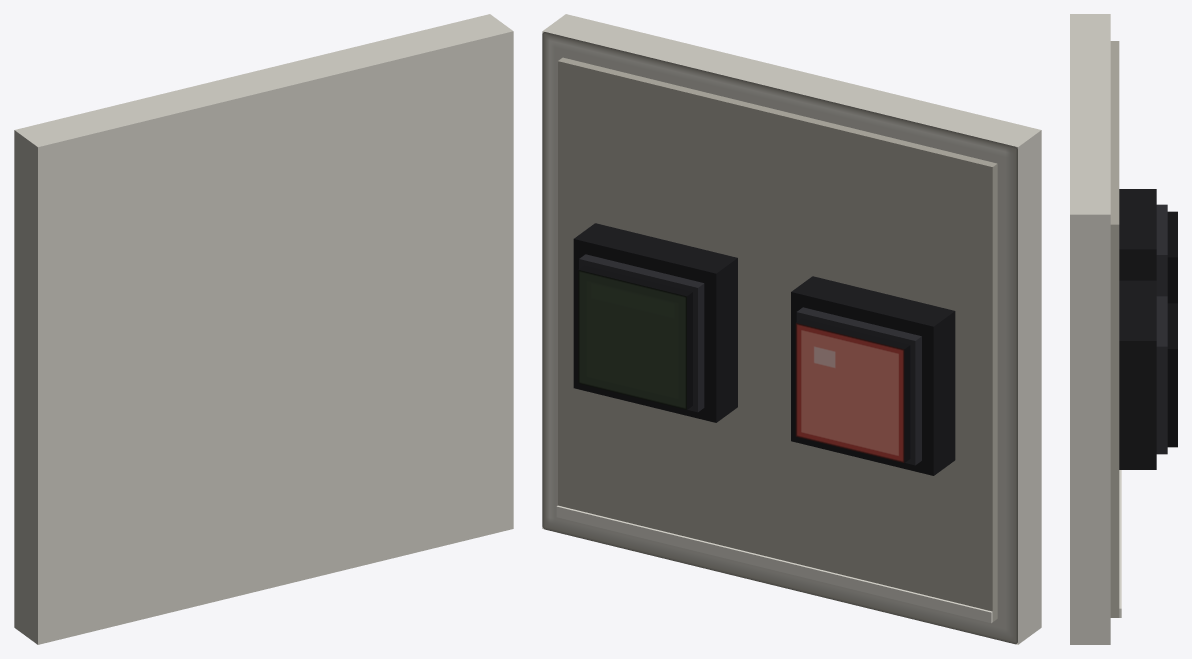
Rendered from indicator2_red.obj.
The picture shows the model from 3 angles, left to right: view 1: azimuth 30°, elevation 25°; view 2: azimuth 150°, elevation 25°; view 3: azimuth 270°, elevation 25°; orthographic projection. The views are drawn at different scales.
Visible parts, largest first — view 1: Panel; view 2: Panel, LampRed, LampGreen; view 3: Panel, LampGreen, LampRed.
Part boxes in pixels (left/top/right/bottom): Panel: left=14, top=14, right=513, bottom=644; Panel: left=542, top=14, right=1041, bottom=644; LampRed: left=791, top=276, right=955, bottom=475; LampGreen: left=573, top=223, right=737, bottom=422; Panel: left=1070, top=14, right=1121, bottom=644; LampGreen: left=1119, top=280, right=1177, bottom=469; LampRed: left=1119, top=189, right=1177, bottom=303.
Bounding box in the file's own units: 0.875 × 0.875 × 0.1988.
Materials: 1 (1 with a texture image).
